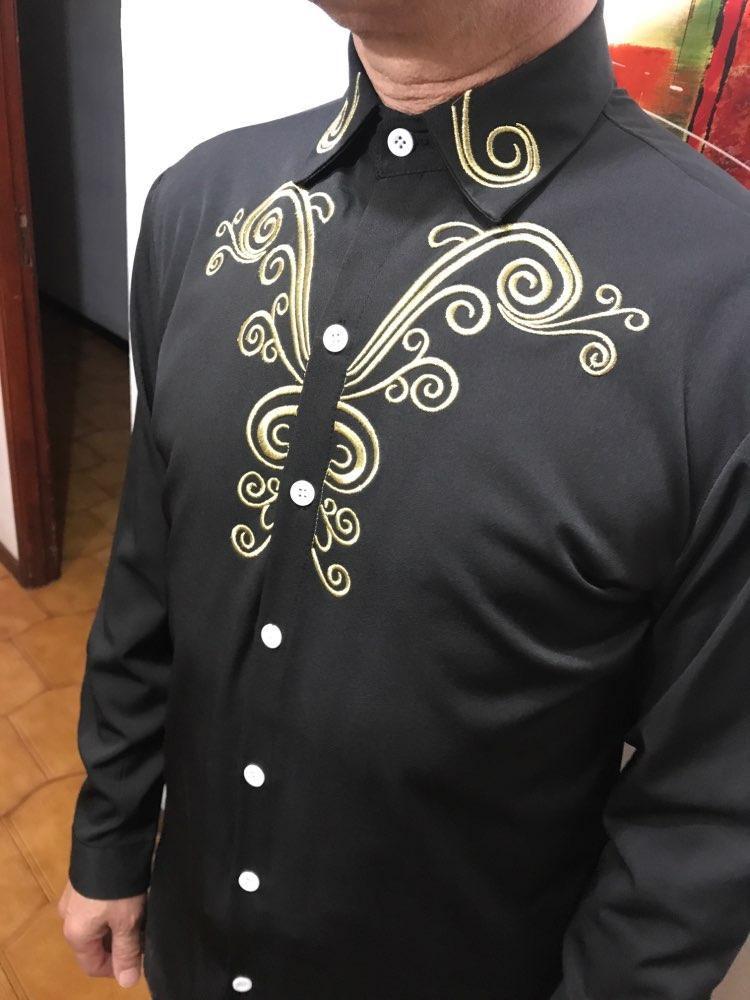shirts: (96, 80, 750, 987)
